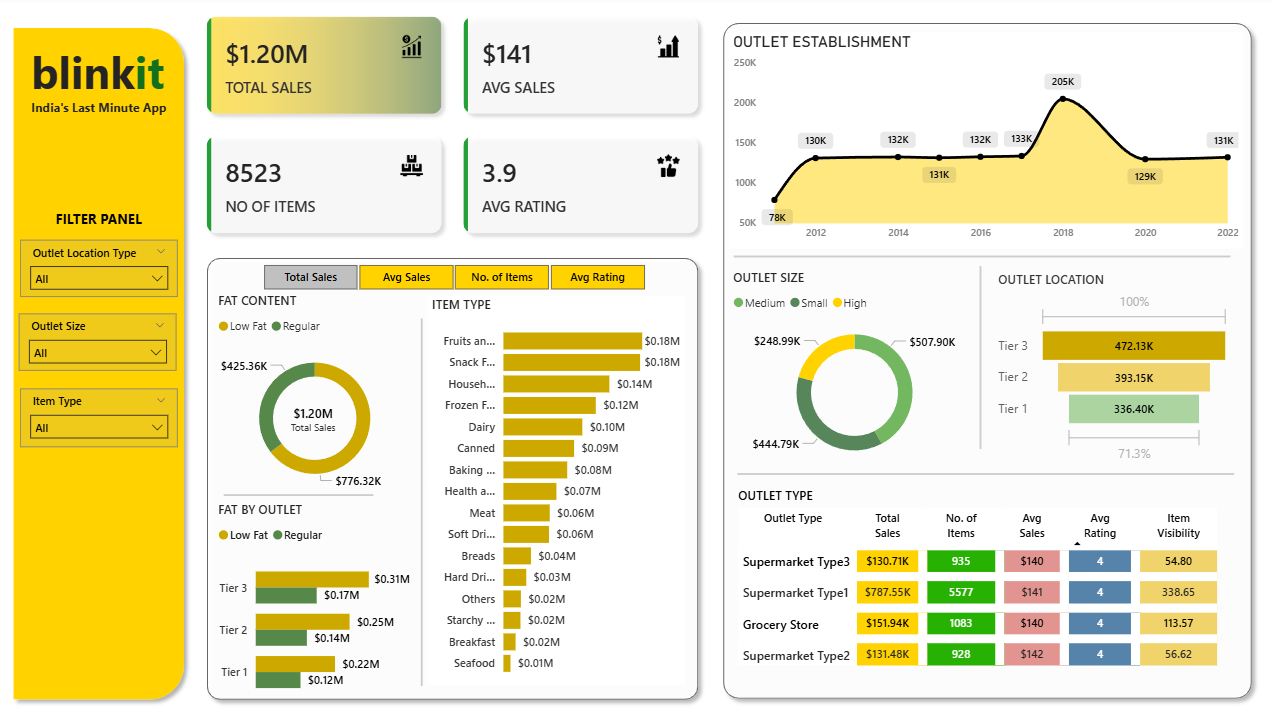

The dashboard page shown, as its layout file describes it:
{"tool":"powerbi","page":{"name":"Page 1","canvas":[1400,800],"ordinal":0},"visuals":[{"type":"shape","box":[10.5,25.5,204.1,750.4],"z":0},{"type":"textbox","box":[19.5,45,186.1,78],"z":1000},{"type":"textbox","box":[13.5,108.1,199.6,30],"z":2000},{"type":"cardVisual","fields":{"Data":["BlinkIT Grocery Data.Total Sales","BlinkIT Grocery Data.Avg Sales","BlinkIT Grocery Data.No. of Items","BlinkIT Grocery Data.Avg Rating"]},"box":[214.6,6,570.3,270.2],"z":3000},{"type":"shape","box":[222.1,276.2,553.8,499.8],"z":4000},{"type":"donutChart","title":"FAT CONTENT","fields":{"Y":["BlinkIT Grocery Data.Total Sales"],"Category":["BlinkIT Grocery Data.Item Fat Content"]},"box":[238.6,322.7,220.6,229.6],"z":5000},{"type":"slicer","fields":{"Values":["Metrics.Metrics"]},"box":[267.2,286.7,465.3,40.5],"z":6000},{"type":"cardVisual","fields":{"Data":["BlinkIT Grocery Data.Total Sales"]},"box":[298.7,427.7,97.6,66],"z":7000},{"type":"clusteredBarChart","title":"FAT BY OUTLET","fields":{"Y":["BlinkIT Grocery Data.Total Sales"],"Category":["BlinkIT Grocery Data.Outlet Location Type"],"Series":["BlinkIT Grocery Data.Item Fat Content"]},"box":[238.6,550.8,219.1,229.6],"z":8000},{"type":"shape","box":[249.1,532.8,163.6,22.5],"z":9000},{"type":"shape","box":[459.3,351.2,12,400.7],"z":10000},{"type":"barChart","title":"ITEM TYPE","fields":{"Y":["BlinkIT Grocery Data.Total Sales"],"Category":["BlinkIT Grocery Data.Item Type"]},"box":[471.3,327.2,280.7,424.7],"z":11000},{"type":"shape","box":[785,21,594.3,754.9],"z":12000},{"type":"lineChart","title":"OUTLET ESTABLISHMENT","fields":{"Category":["BlinkIT Grocery Data.Outlet Establishment Year"],"Y":["Sum(BlinkIT Grocery Data.Sales)"]},"box":[800,39,561.3,235.6],"z":13000},{"type":"shape","box":[806,277.7,541.8,12],"z":14000},{"type":"donutChart","title":"OUTLET SIZE","fields":{"Y":["BlinkIT Grocery Data.Total Sales"],"Category":["BlinkIT Grocery Data.Outlet Size"]},"box":[800,297.2,274.7,225.1],"z":15000},{"type":"shape","box":[1068.6,294.2,12,199.6],"z":16000},{"type":"funnel","title":"OUTLET LOCATION","fields":{"Category":["BlinkIT Grocery Data.Outlet Location Type"],"Y":["Sum(BlinkIT Grocery Data.Sales)"]},"box":[1089.6,300.2,262.7,214.6],"z":17000},{"type":"shape","box":[810.5,514.8,541.8,12],"z":18000},{"type":"pivotTable","title":"OUTLET TYPE","fields":{"Values":["BlinkIT Grocery Data.Total Sales","BlinkIT Grocery Data.No. of Items","BlinkIT Grocery Data.Avg Sales","BlinkIT Grocery Data.Avg Rating","Sum(BlinkIT Grocery Data.Item Visibility)"],"Rows":["BlinkIT Grocery Data.Outlet Type"]},"box":[806,535.8,555.3,219.1],"z":19000},{"type":"slicer","fields":{"Values":["BlinkIT Grocery Data.Outlet Location Type"]},"box":[27.8,265.3,172.2,62.5],"z":20000},{"type":"slicer","fields":{"Values":["BlinkIT Grocery Data.Outlet Size"]},"box":[26.4,345.8,172.2,62.5],"z":21000},{"type":"slicer","fields":{"Values":["BlinkIT Grocery Data.Item Type"]},"box":[27.8,427.8,172.2,63.9],"z":22000},{"type":"textbox","box":[27.8,227.8,172.2,37.5],"z":23000}]}

Visuals, with their boxes in screenshot pixels (x1, y1, x2, y2), scaled from the page's 1400x800 canvas onto the 1272x722 screenshot:
shape: detection(10, 23, 195, 700)
textbox: detection(18, 41, 187, 111)
textbox: detection(12, 98, 194, 125)
cardVisual - BlinkIT Grocery Data.Total Sales x BlinkIT Grocery Data.Avg Sales: detection(195, 5, 713, 249)
shape: detection(202, 249, 705, 700)
"FAT CONTENT" donutChart: detection(217, 291, 417, 498)
slicer - Metrics.Metrics: detection(243, 259, 666, 295)
cardVisual - BlinkIT Grocery Data.Total Sales: detection(271, 386, 360, 446)
"FAT BY OUTLET" clusteredBarChart: detection(217, 497, 416, 704)
shape: detection(226, 481, 375, 501)
shape: detection(417, 317, 428, 679)
"ITEM TYPE" barChart: detection(428, 295, 683, 679)
shape: detection(713, 19, 1253, 700)
"OUTLET ESTABLISHMENT" lineChart: detection(727, 35, 1237, 248)
shape: detection(732, 251, 1225, 261)
"OUTLET SIZE" donutChart: detection(727, 268, 976, 471)
shape: detection(971, 266, 982, 446)
"OUTLET LOCATION" funnel: detection(990, 271, 1229, 465)
shape: detection(736, 465, 1229, 475)
"OUTLET TYPE" pivotTable: detection(732, 484, 1237, 681)
slicer - BlinkIT Grocery Data.Outlet Location Type: detection(25, 239, 182, 296)
slicer - BlinkIT Grocery Data.Outlet Size: detection(24, 312, 180, 368)
slicer - BlinkIT Grocery Data.Item Type: detection(25, 386, 182, 444)
textbox: detection(25, 206, 182, 239)
